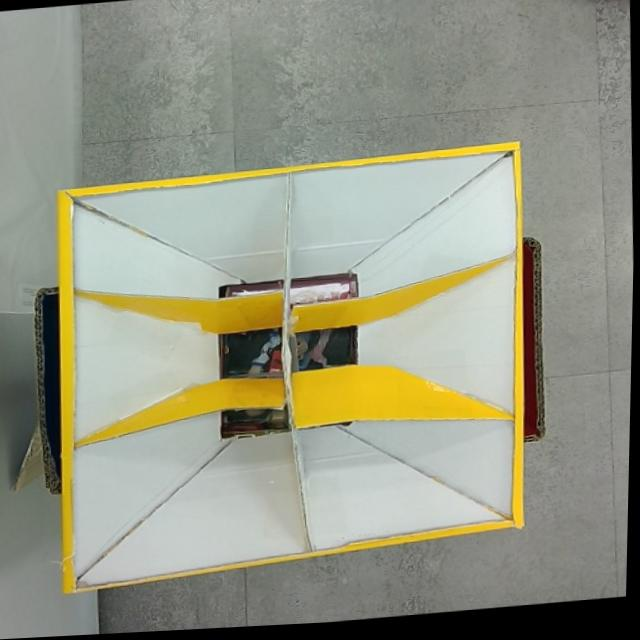box: (24, 147, 556, 598)
